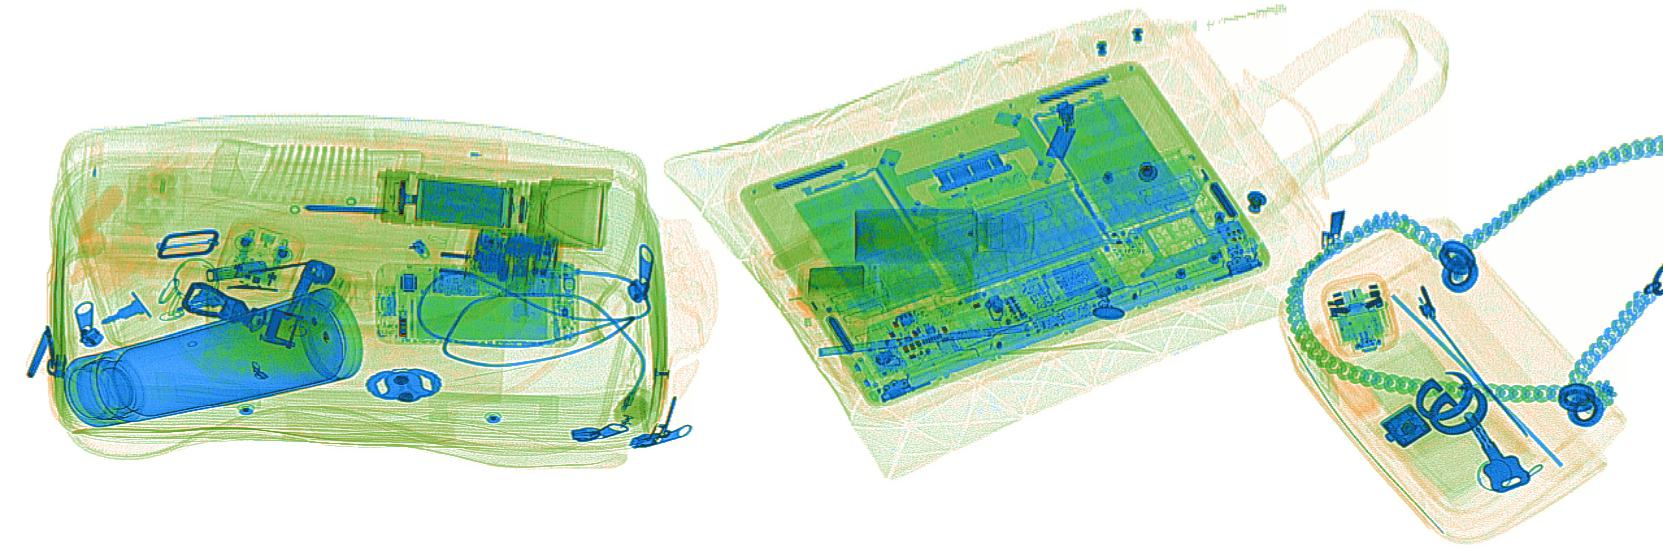battery: (412, 177, 513, 231)
